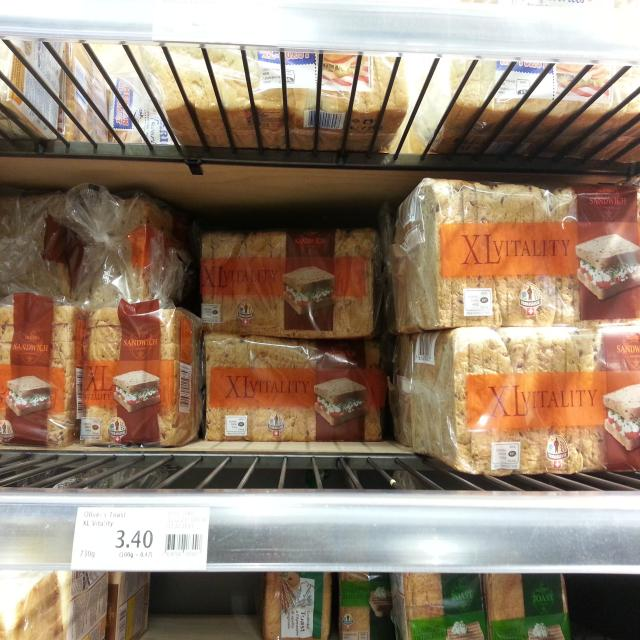Bakery: (380, 179, 640, 333), (395, 331, 640, 480), (158, 41, 408, 158), (425, 56, 640, 164), (200, 333, 385, 442), (201, 231, 381, 336), (80, 308, 204, 440), (63, 204, 194, 309), (0, 301, 77, 442), (398, 565, 488, 640), (481, 579, 573, 640), (264, 569, 335, 640)
